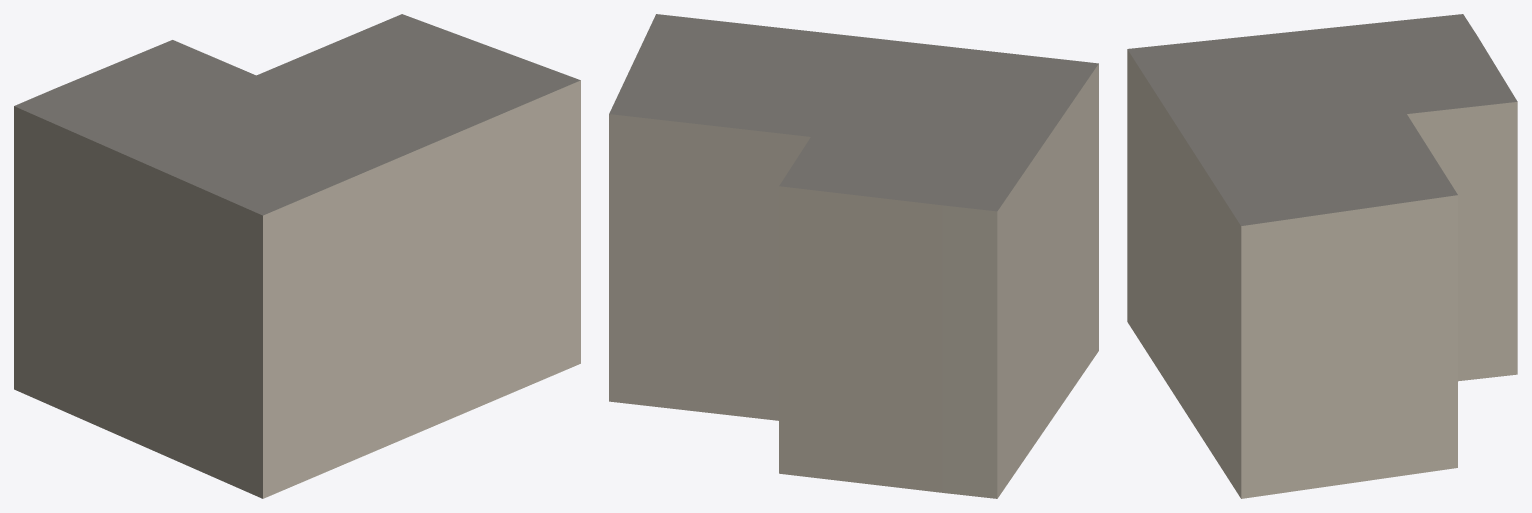
3 views of the same model, side by side, from view 1: azimuth 30°, elevation 25°; view 2: azimuth 150°, elevation 25°; view 3: azimuth 270°, elevation 25° (orthographic). The views are drawn at different scales.
Parts seen in each view (by area): view 1: HP-w380339870; view 2: HP-w380339870; view 3: HP-w380339870.
Part boxes in pixels (box(x1,y1,x2,y2)): HP-w380339870: box(14, 14, 580, 498); HP-w380339870: box(609, 14, 1098, 498); HP-w380339870: box(1127, 14, 1517, 498).
Size of the model in its own units: 25.02 by 15 by 19.46.
